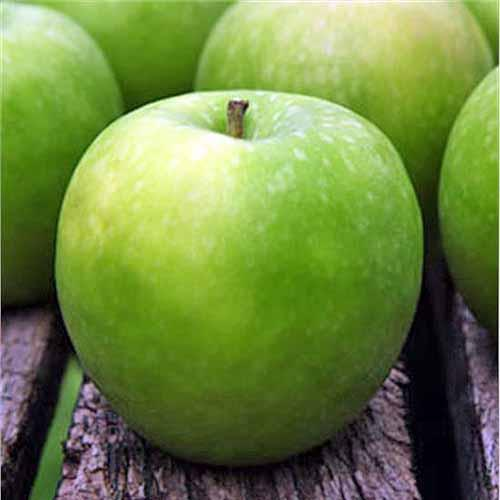apple: (57, 88, 426, 468), (156, 7, 496, 236), (1, 10, 123, 303), (436, 80, 497, 330)
